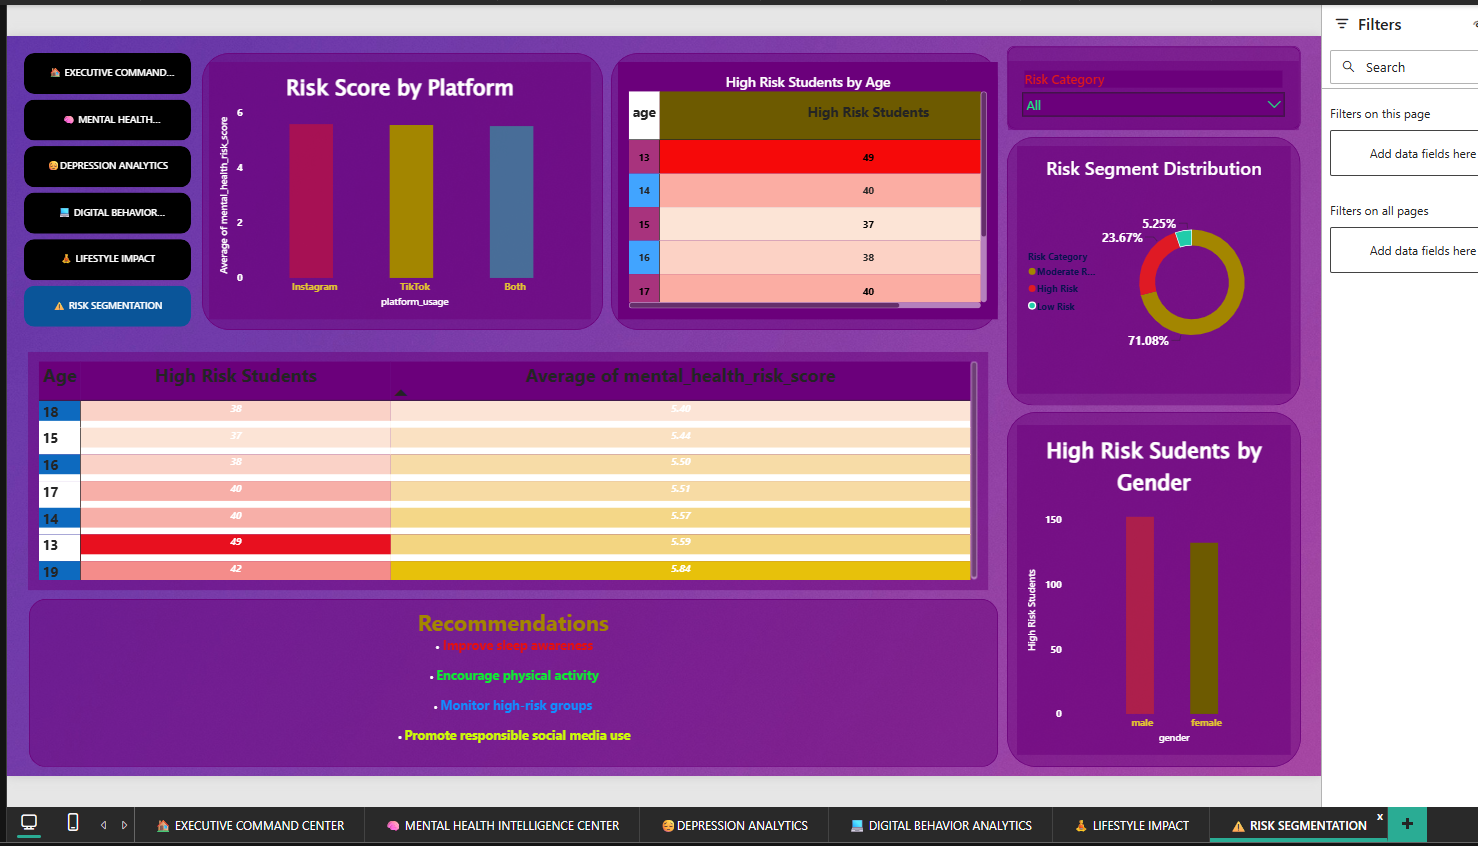

This screenshot's page, from the dashboard's own definition file:
{"tool":"powerbi","page":{"name":"⚠️ RISK SEGMENTATION","canvas":[1920,1080],"ordinal":5},"visuals":[{"type":"shape","box":[284.9,24.8,585.9,404.7],"z":1000},{"type":"shape","box":[1461.9,147.4,428.9,392.5],"z":2000},{"type":"shape","box":[32.1,822.6,1415.9,245.5],"z":3000},{"type":"shape","box":[1461.8,14.7,429.4,122.1],"z":4000},{"type":"slicer","fields":{"Values":["vw_mental_health_analytics.Risk Category"]},"box":[1462.6,36.5,425.2,100.8],"z":5000},{"type":"shape","box":[882.6,24.8,565.5,404.7],"z":6000},{"type":"shape","box":[1461.2,549.4,429.6,518.7],"z":7000},{"type":"clusteredColumnChart","title":"High Risk Sudents by Gender","fields":{"Category":["vw_mental_health_analytics.gender"],"Y":["vw_mental_health_analytics.High Risk Students"]},"box":[1475.8,568.4,400.4,482.2],"z":8000},{"type":"pivotTable","title":"High Risk Students by Age","fields":{"Rows":["vw_mental_health_analytics.age"],"Values":["vw_mental_health_analytics.High Risk Students"]},"box":[892.8,38,555.3,375.5],"z":9000},{"type":"clusteredColumnChart","title":"Risk Score by Platform","fields":{"Category":["vw_mental_health_analytics.platform_usage"],"Y":["Avg(vw_mental_health_analytics.mental_health_risk_score)"]},"box":[295.2,38,558.2,375.5],"z":10000},{"type":"donutChart","title":"Risk Segment Distribution","fields":{"Category":["vw_mental_health_analytics.Risk Category"],"Y":["vw_mental_health_analytics.Total Students"]},"box":[1475.8,160.7,400.4,362.4],"z":11000},{"type":"pivotTable","fields":{"Rows":["vw_mental_health_analytics.age"],"Values":["vw_mental_health_analytics.High Risk Students","Avg(vw_mental_health_analytics.mental_health_risk_score)"]},"box":[30.7,461.7,1402.7,347.8],"z":12000},{"type":"textbox","box":[49.7,834.3,1383.7,216.3],"z":13000},{"type":"pageNavigator","box":[24.8,24.8,244,404.7],"z":14000}]}

Visuals, with their boxes on the page's 1920x1080 design canvas (x1, y1, x2, y2). These are canvas units, not pixel positions in the 1478x846 screenshot, which may show the page scaled, cropped or inside an application window:
shape: detection(285, 25, 871, 430)
shape: detection(1462, 147, 1891, 540)
shape: detection(32, 823, 1448, 1068)
shape: detection(1462, 15, 1891, 137)
slicer - vw_mental_health_analytics.Risk Category: detection(1463, 36, 1888, 137)
shape: detection(883, 25, 1448, 430)
shape: detection(1461, 549, 1891, 1068)
"High Risk Sudents by Gender" clusteredColumnChart: detection(1476, 568, 1876, 1051)
"High Risk Students by Age" pivotTable: detection(893, 38, 1448, 414)
"Risk Score by Platform" clusteredColumnChart: detection(295, 38, 853, 414)
"Risk Segment Distribution" donutChart: detection(1476, 161, 1876, 523)
pivotTable - vw_mental_health_analytics.age x vw_mental_health_analytics.High Risk Students: detection(31, 462, 1433, 810)
textbox: detection(50, 834, 1433, 1051)
pageNavigator: detection(25, 25, 269, 430)
